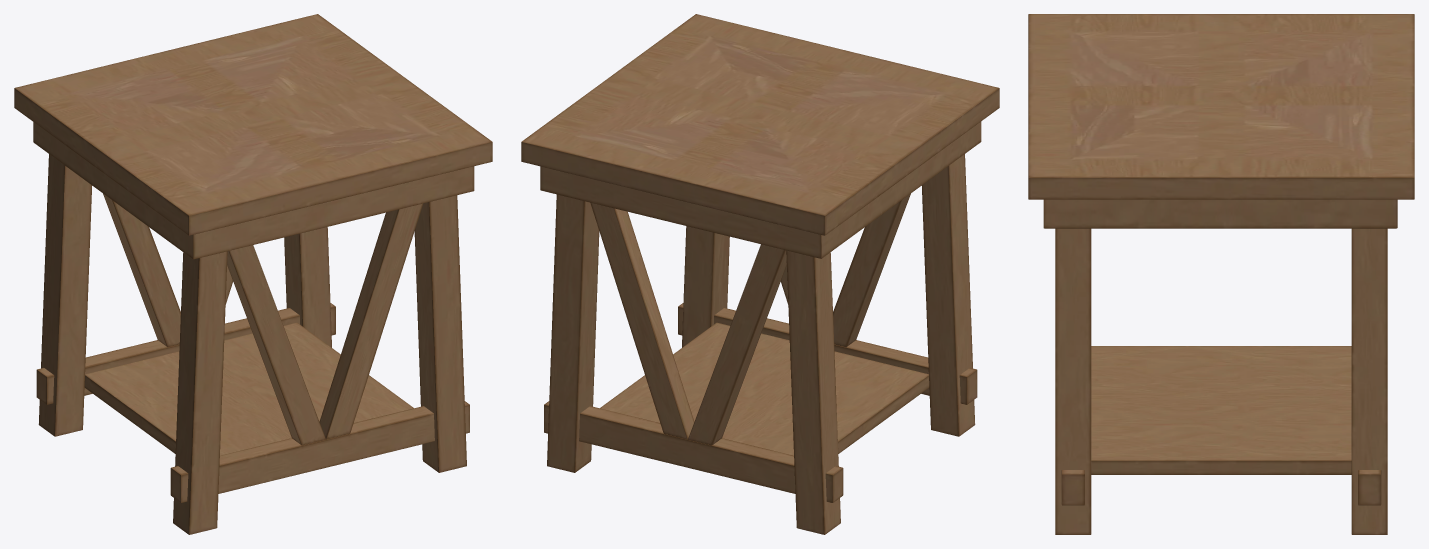
Rendered from abo-B07B8J8LXH.glb.
3 views of the same model, side by side, from view 1: azimuth 30°, elevation 25°; view 2: azimuth 150°, elevation 25°; view 3: azimuth 270°, elevation 25° (orthographic). The views are drawn at different scales.
Bounding box in the file's own units: 0.612 × 0.638 × 0.61.
Materials: 1 (1 with a texture image).
